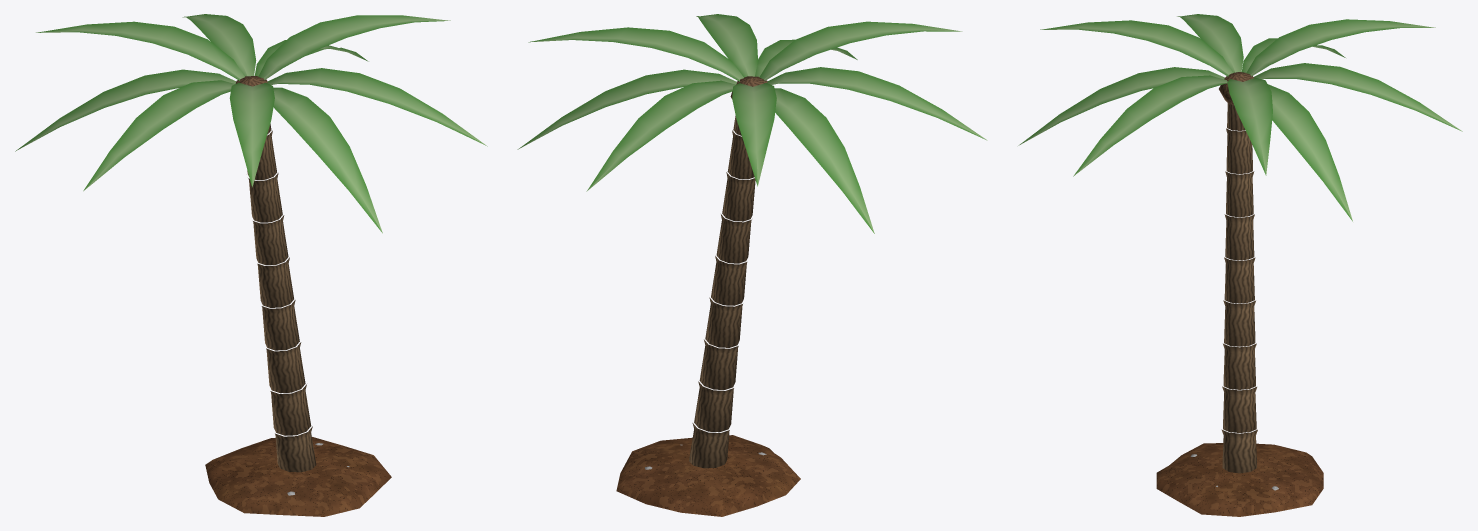
File: plant-coconut-3.glb
3 views of the same model, side by side, from view 1: azimuth 30°, elevation 25°; view 2: azimuth 150°, elevation 25°; view 3: azimuth 270°, elevation 25° (orthographic). The views are drawn at different scales.
Visible parts, largest first — view 1: plant-coconut-3; view 2: plant-coconut-3; view 3: plant-coconut-3.
Boxes of the visible parts, left/top/right/bottom form: plant-coconut-3: left=15, top=14, right=487, bottom=516; plant-coconut-3: left=517, top=14, right=987, bottom=516; plant-coconut-3: left=1018, top=14, right=1462, bottom=516.
Bounding box in the file's own units: 2.63 × 2.62 × 2.61.
4 materials, 3 textured.
